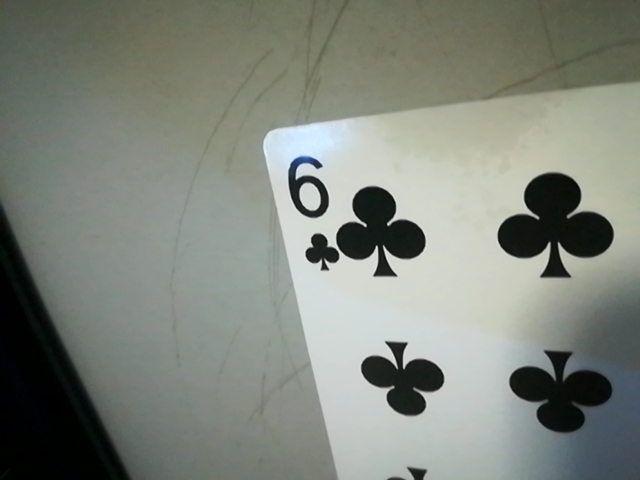mh 6: (277, 146, 342, 276)
